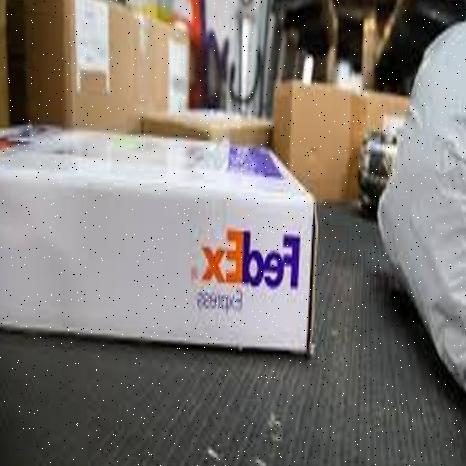FedEx: (1, 140, 304, 360)
